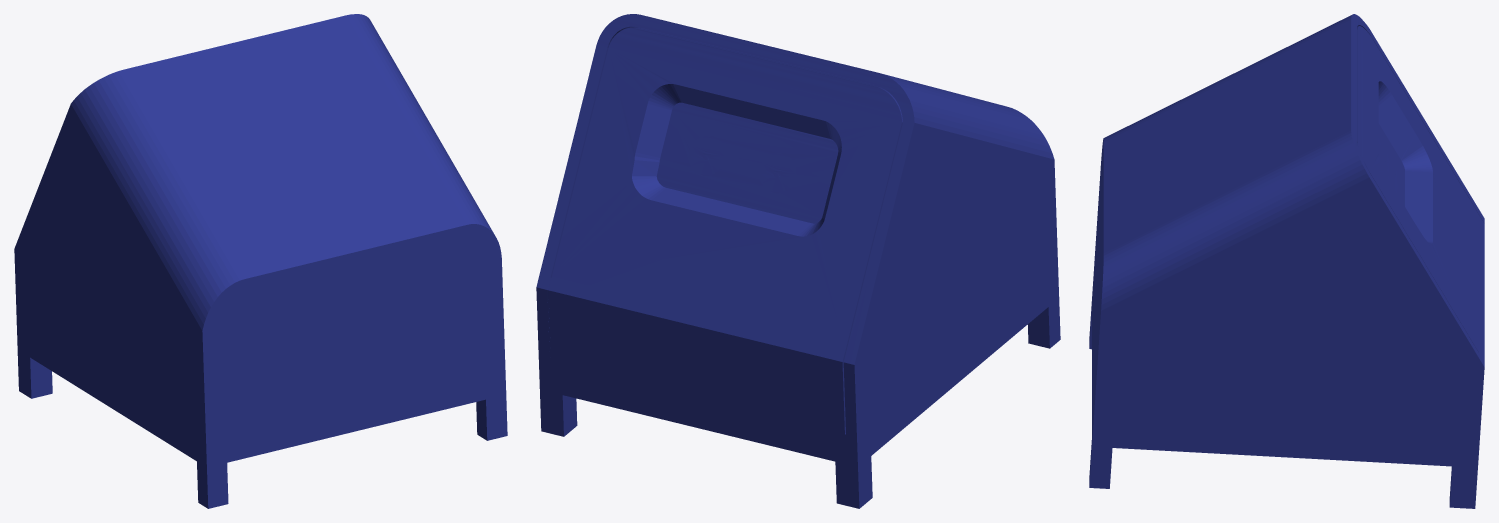
Rendered from PicoPet.glb.
3 views of the same model, side by side, from view 1: azimuth 30°, elevation 25°; view 2: azimuth 150°, elevation 25°; view 3: azimuth 270°, elevation 25° (orthographic). The views are drawn at different scales.
Visible parts, largest first — view 1: MeshBody1; view 2: MeshBody1; view 3: MeshBody1.
Part boxes in pixels (box(x1,y1,x2,y2)): MeshBody1: box(14, 14, 507, 508); MeshBody1: box(536, 14, 1060, 508); MeshBody1: box(1089, 14, 1484, 508).
Size of the model in its own units: 2.25 by 2.55 by 2.52.
